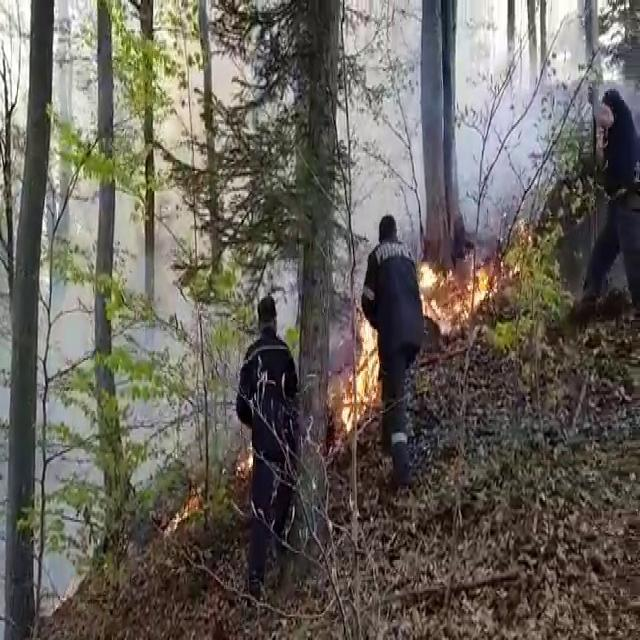Fire: (418, 242, 496, 336), (335, 302, 385, 446)
Smoke: (339, 1, 592, 230)
